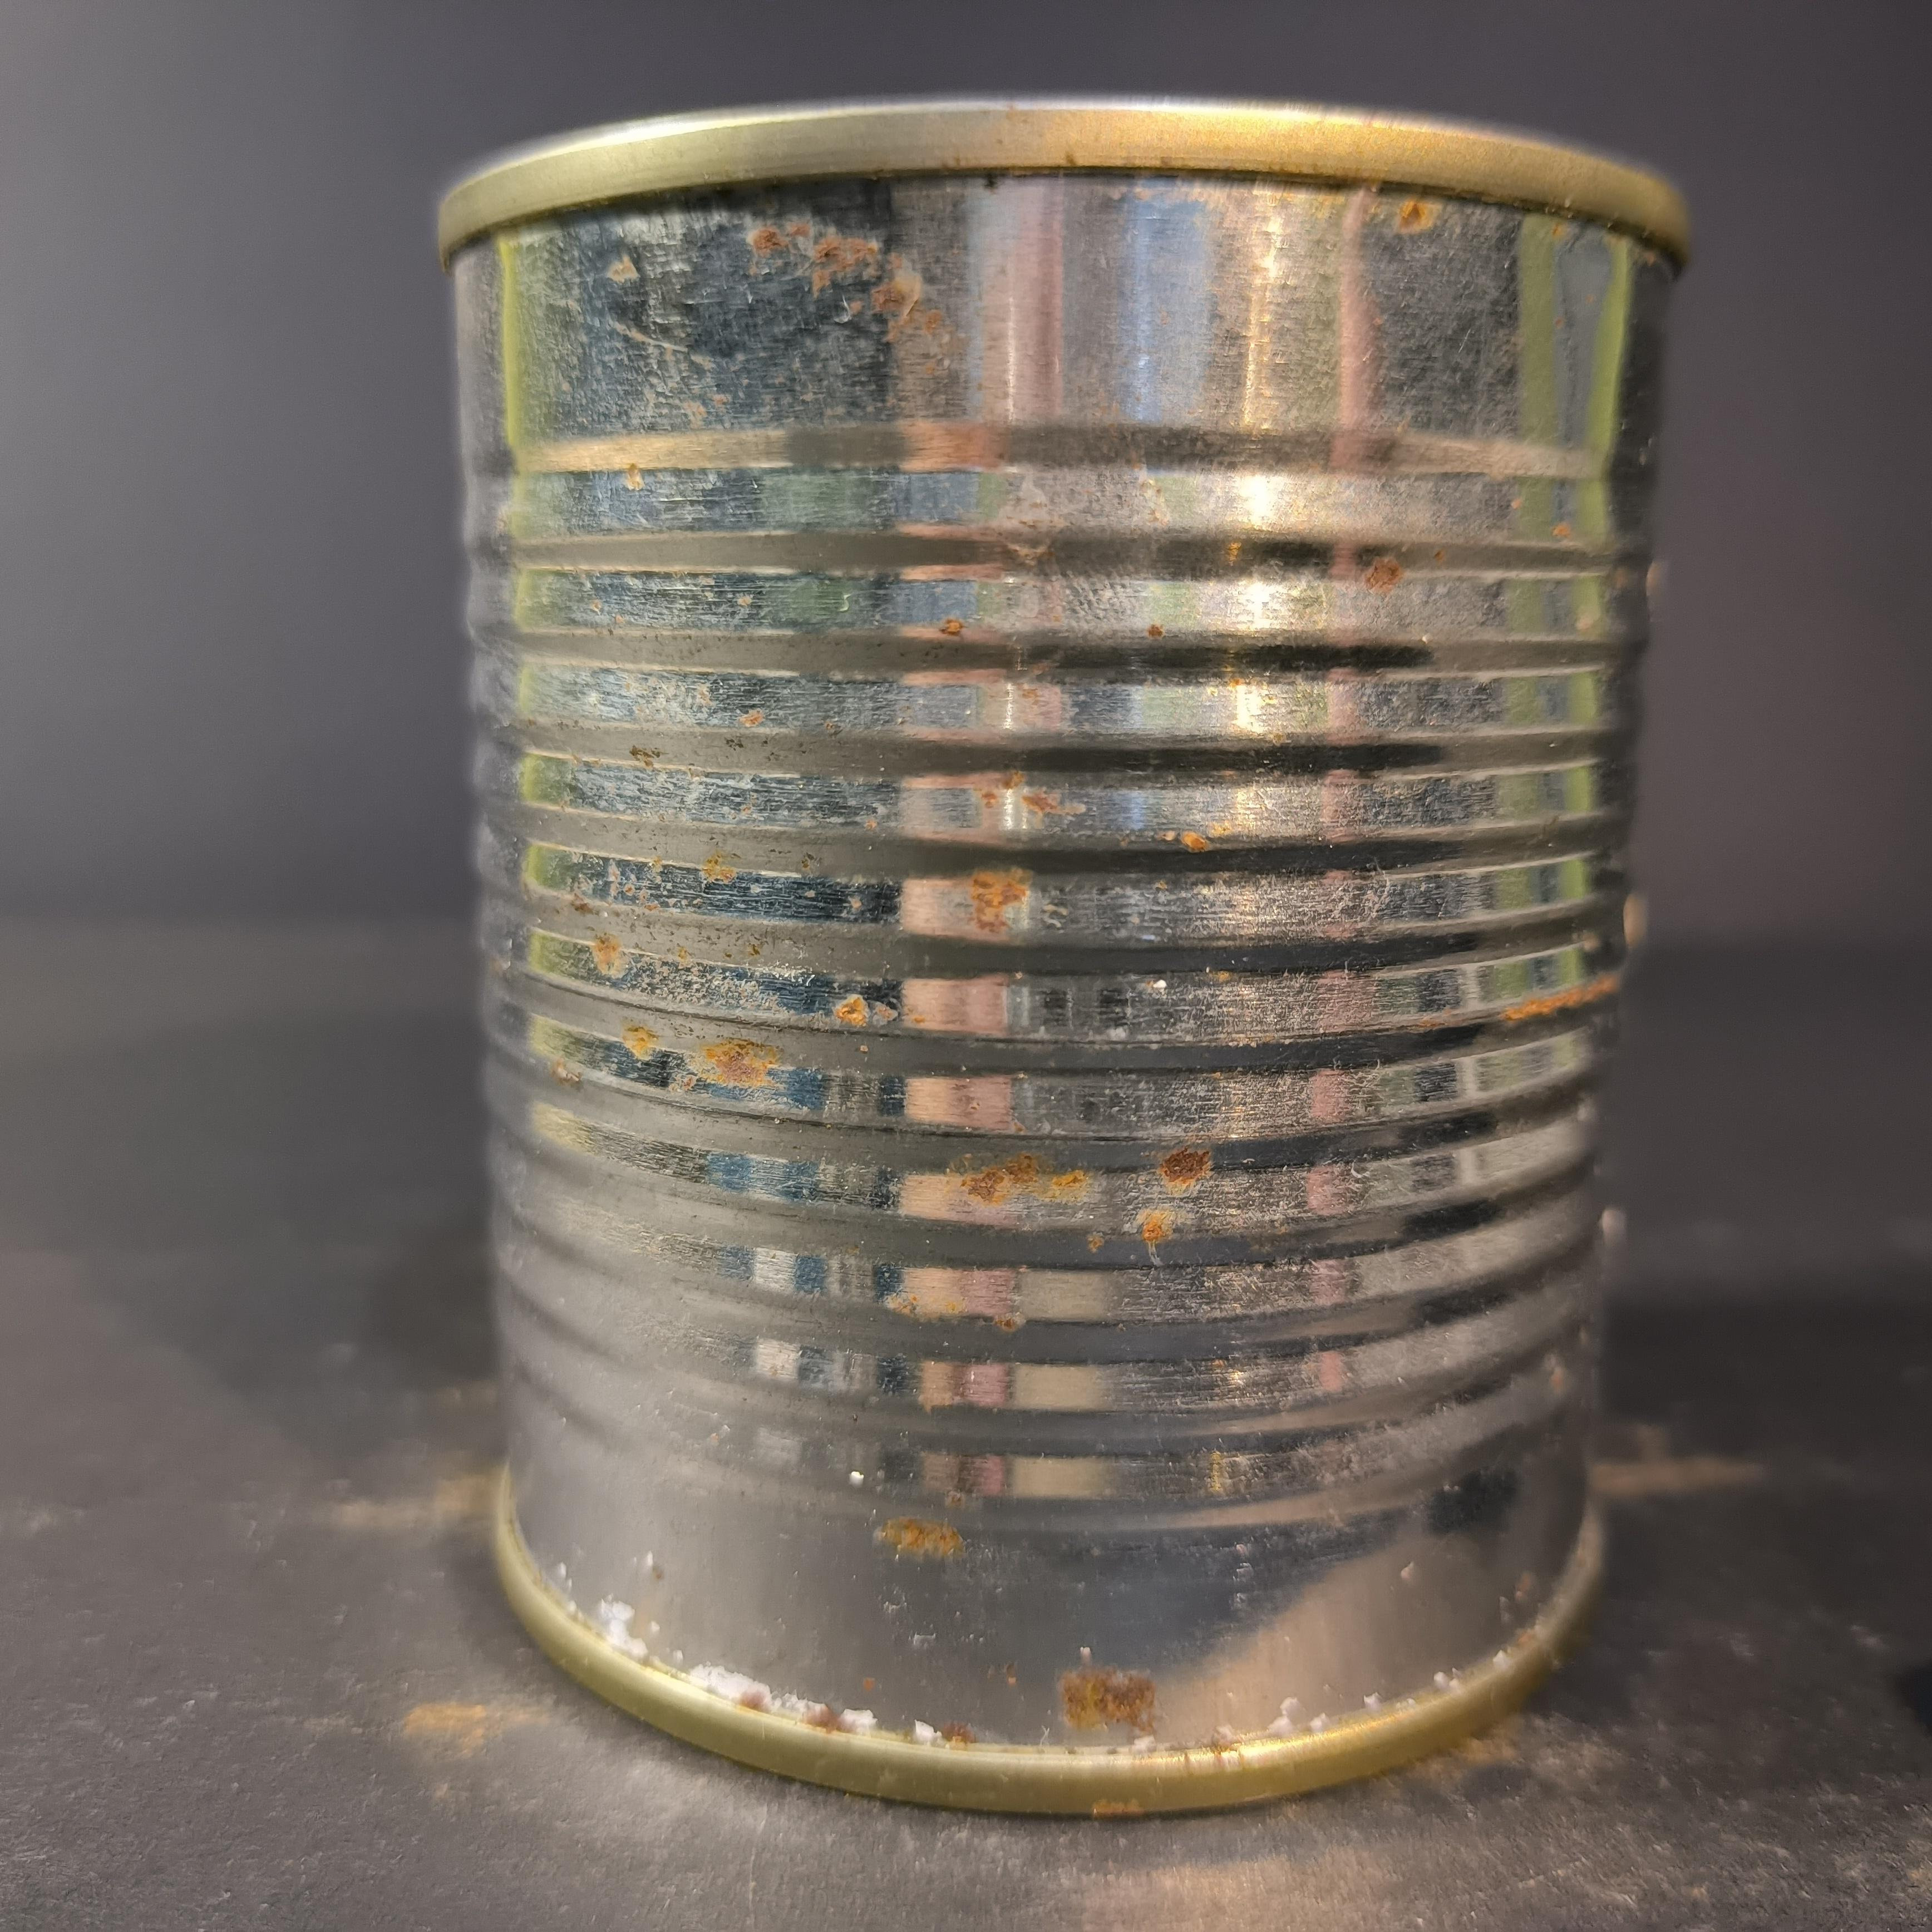Rusted: (433, 48, 1683, 1828)
